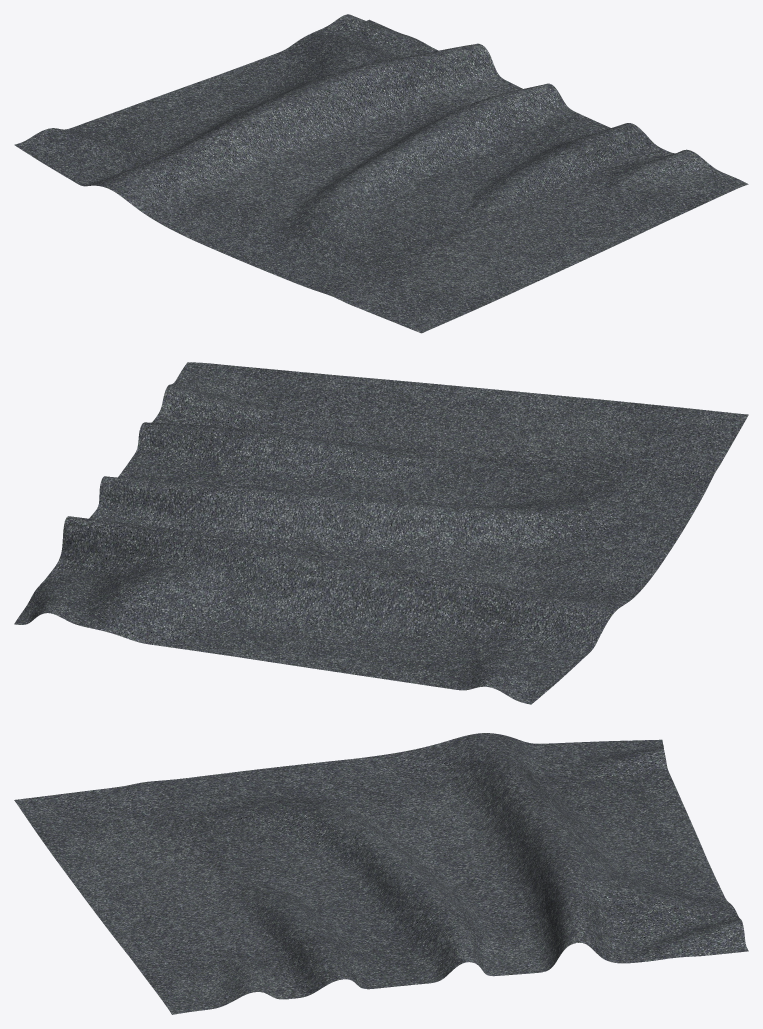
The model's file is rug.glb.
The picture shows the model from 3 angles, top to bottom: view 1: azimuth 30°, elevation 25°; view 2: azimuth 150°, elevation 25°; view 3: azimuth 270°, elevation 25°; orthographic projection. The views are drawn at different scales.
Parts seen in each view (by area): view 1: Mesh_blinn1_0; view 2: Mesh_blinn1_0; view 3: Mesh_blinn1_0.
Part boxes in pixels (left/top/right/bottom): Mesh_blinn1_0: left=14, top=14, right=748, bottom=333; Mesh_blinn1_0: left=14, top=362, right=748, bottom=704; Mesh_blinn1_0: left=14, top=733, right=748, bottom=1014.
Bounding box in the file's own units: 111 × 7.06 × 126.
1 material, 1 textured.
